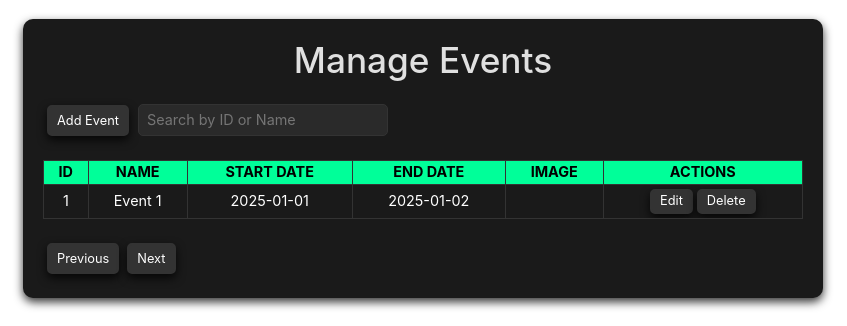
it: EventsAdmin Component › renders pagination buttons and handles page navigation
The width and height of the screenshot is (847, 326).
Check: the text "Event 1" is shown, box [88,184,187,218]
Check: the text "Event 2" is not shown
Simulate clicking the "Next" button
Click the button "Next". click: (151, 258)
box: [127,243,176,274]
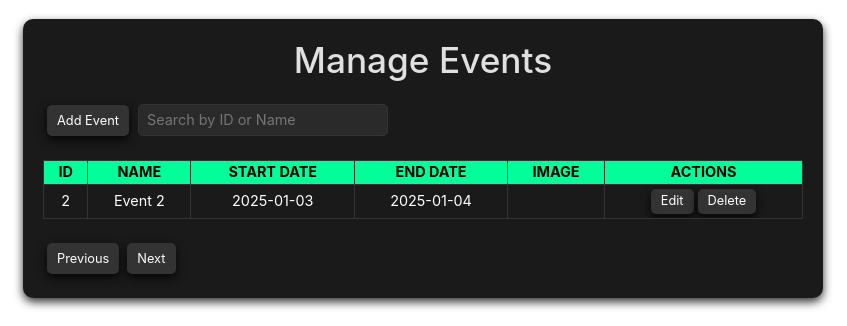
Check: the text "Event 2" is shown, box [88,184,191,218]
Check: the text "Event 1" is gone
Simulate clicking the "Previous" button
Click the button "Previous". click: (83, 258)
box: [47,243,119,274]
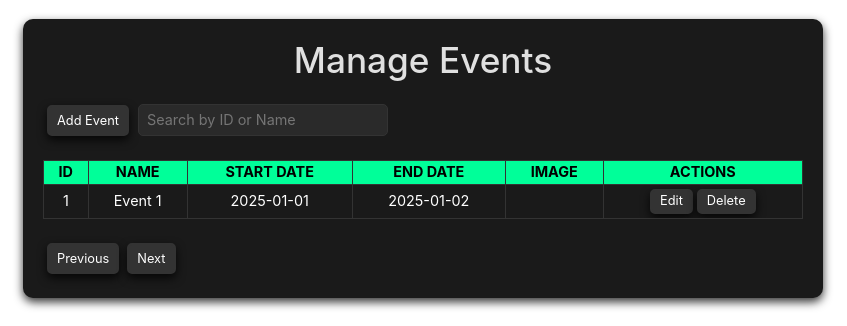
Check: the text "Event 1" is shown, box [88,184,187,218]
Check: the text "Event 2" is gone
